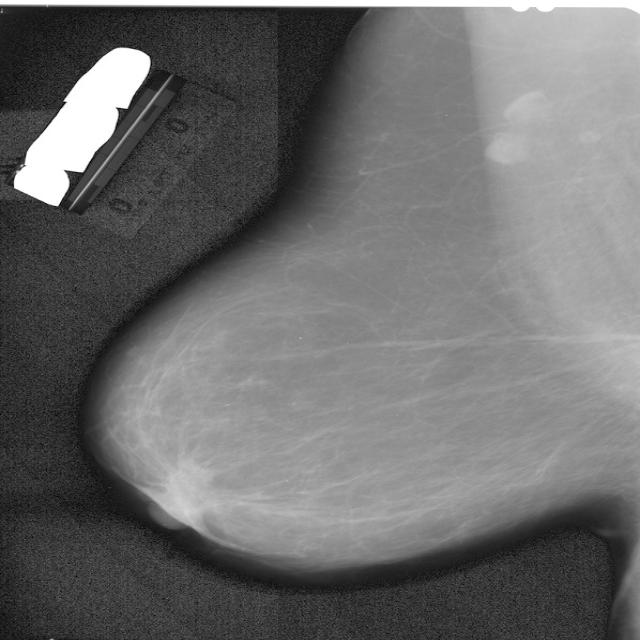tumour: (160, 465, 210, 519)
